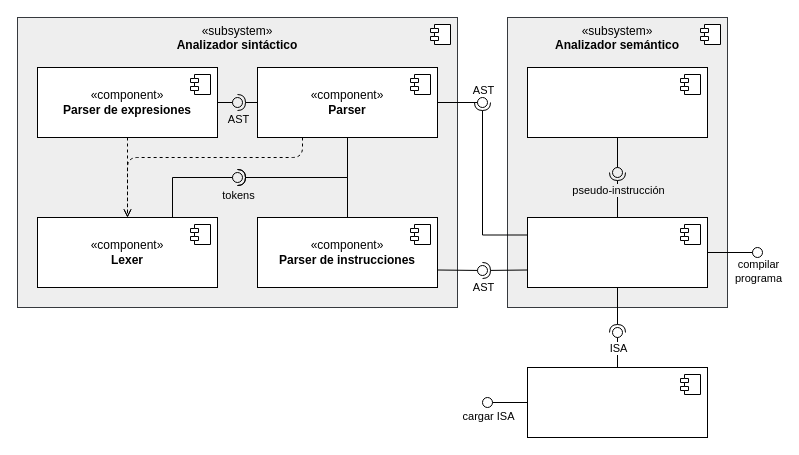
The diagram is 799 pixels wide and 455 high, and some of its shapes have lost their labels. Each missing label, with the centre of its shape:
«component» Compilador: [617,252]
«component» Evaluador de pseudo-instrucciones: [617,102]
«component» Gestor de la arquitectura: [617,402]
